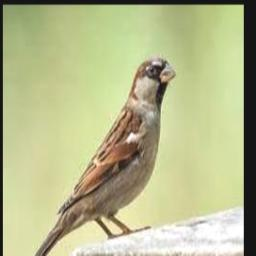Sparrow: (22, 58, 176, 256)
